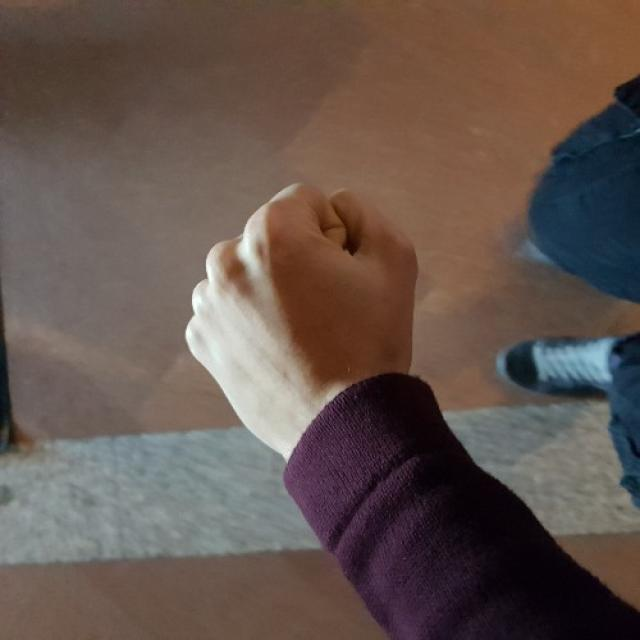fist: (187, 178, 420, 408)
